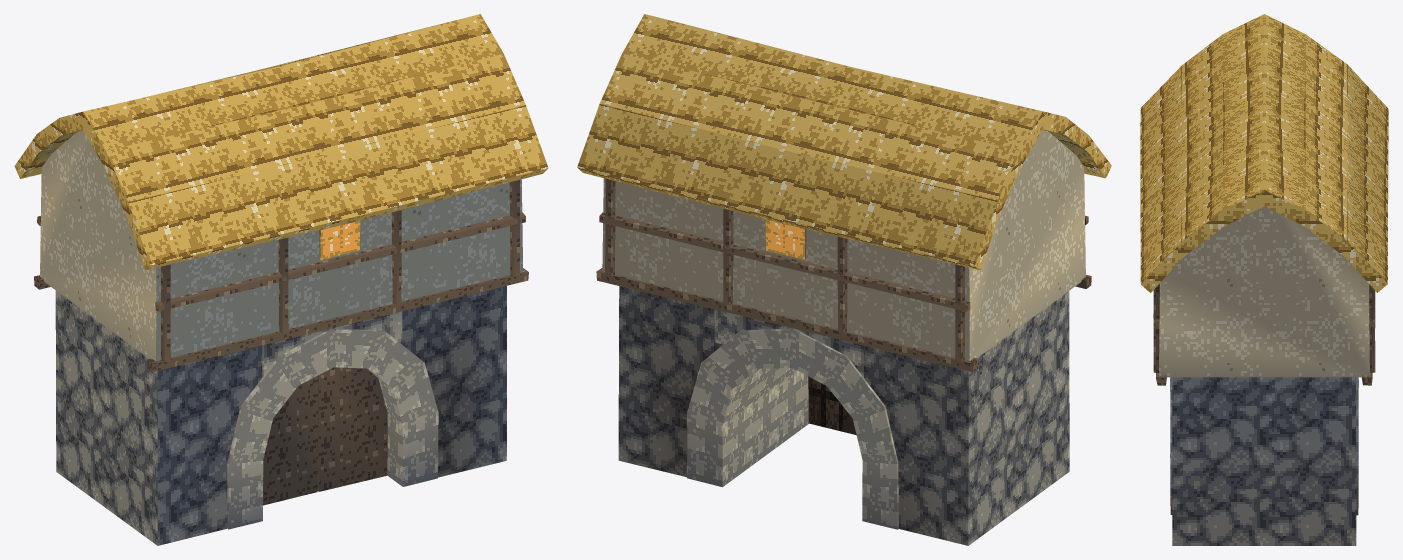
The model's file is vlg.gatehouse.glb.
The picture shows the model from 3 angles, left to right: view 1: azimuth 30°, elevation 25°; view 2: azimuth 150°, elevation 25°; view 3: azimuth 270°, elevation 25°; orthographic projection. The views are drawn at different scales.
Visible parts, largest first — view 1: kit_roof, kit_stonework, kit_walls, kit_fittings, kit_frame; view 2: kit_roof, kit_stonework, kit_walls, kit_frame, kit_fittings; view 3: kit_roof, kit_stonework, kit_walls, kit_frame.
Part boxes in pixels (bbox=[...]): kit_roof: bbox=[14, 14, 548, 270]; kit_stonework: bbox=[55, 286, 506, 545]; kit_walls: bbox=[40, 130, 523, 361]; kit_fittings: bbox=[263, 220, 387, 505]; kit_frame: bbox=[34, 180, 528, 371]; kit_roof: bbox=[577, 14, 1111, 270]; kit_stonework: bbox=[618, 286, 1069, 545]; kit_walls: bbox=[602, 130, 1085, 361]; kit_frame: bbox=[596, 179, 1091, 371]; kit_fittings: bbox=[765, 219, 856, 434]; kit_roof: bbox=[1140, 14, 1388, 293]; kit_stonework: bbox=[1170, 377, 1358, 545]; kit_walls: bbox=[1159, 206, 1369, 377]; kit_frame: bbox=[1153, 284, 1375, 385].
Bounding box in the file's own units: 9.12 × 8.82 × 5.41.
8 materials, 8 textured.
